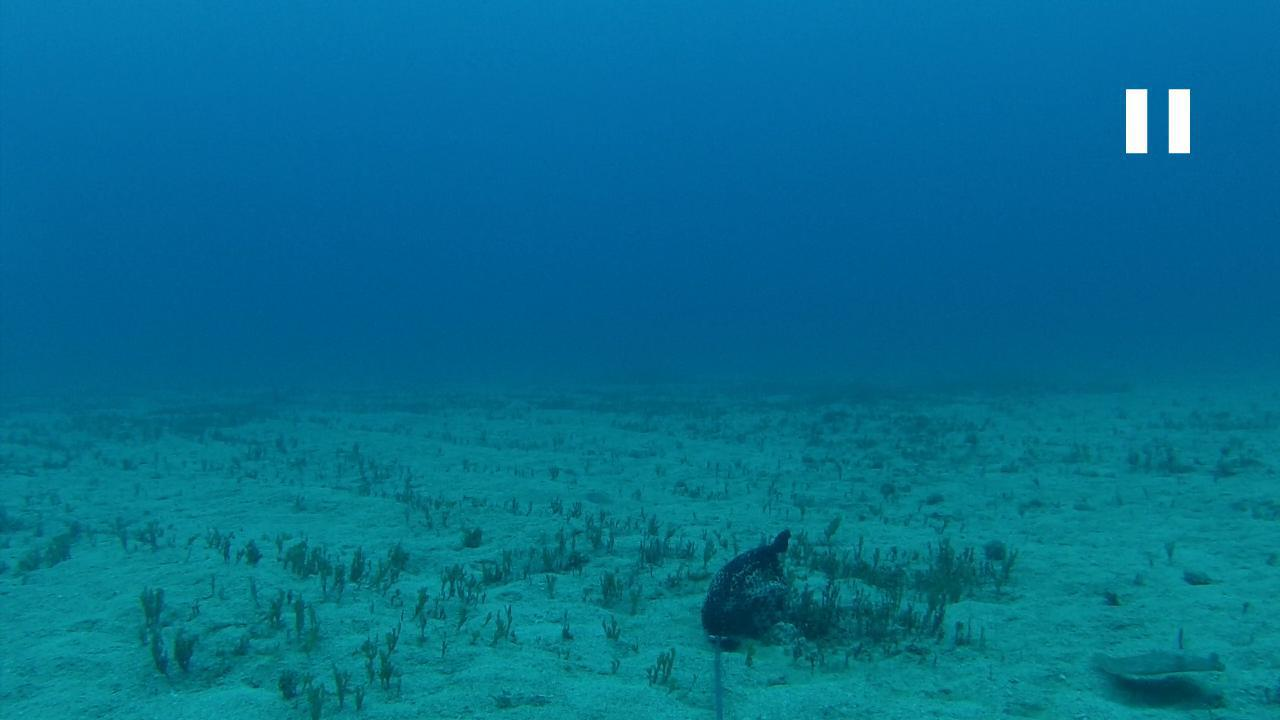bothus: (1088, 647, 1233, 681)
